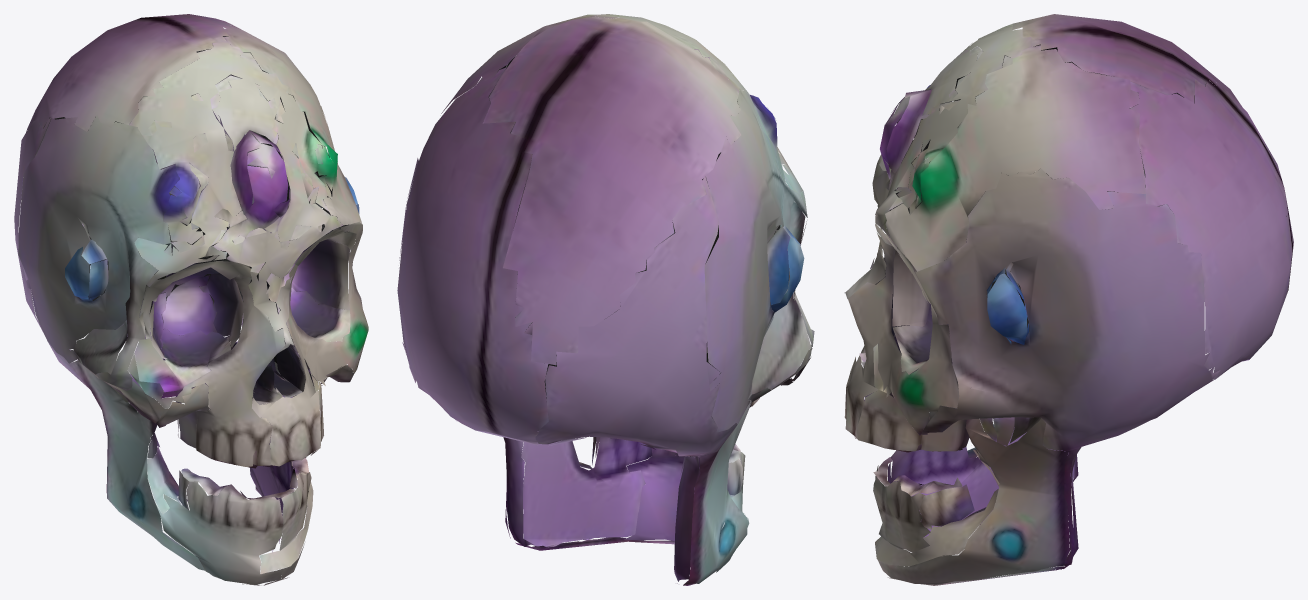
The model's file is demilich.glb.
3 views of the same model, side by side, from view 1: azimuth 30°, elevation 25°; view 2: azimuth 150°, elevation 25°; view 3: azimuth 270°, elevation 25° (orthographic). The views are drawn at different scales.
Visible parts, largest first — view 1: geometry_0; view 2: geometry_0; view 3: geometry_0.
Boxes of the visible parts, left/top/right/bottom form: geometry_0: left=14, top=14, right=368, bottom=585; geometry_0: left=397, top=14, right=814, bottom=585; geometry_0: left=844, top=14, right=1293, bottom=585.
Size of the model in its own units: 0.6007 by 0.9972 by 0.7575.
Materials: 1 (1 with a texture image).
